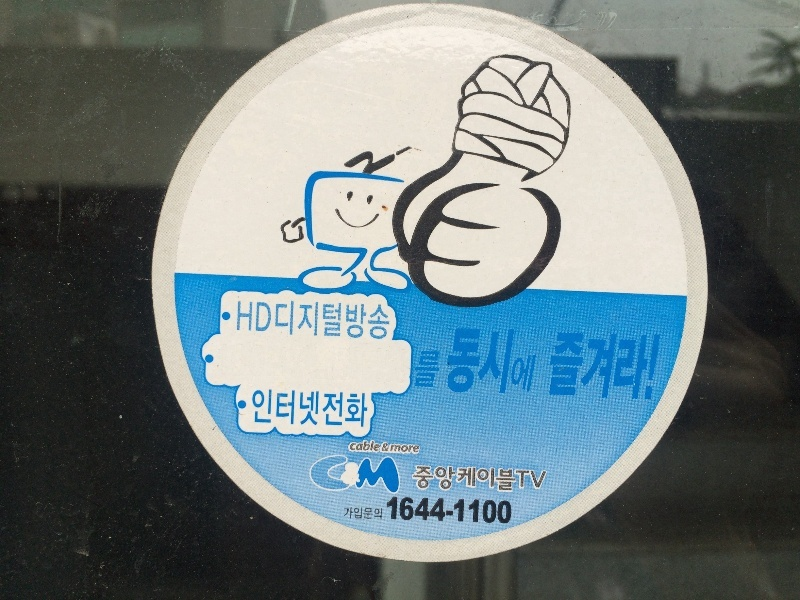text: (465, 327, 480, 399), (481, 327, 496, 399), (497, 327, 512, 399), (561, 332, 576, 403), (577, 332, 592, 403), (593, 332, 608, 403), (609, 332, 624, 403), (625, 332, 640, 403), (641, 332, 656, 403), (455, 327, 464, 399), (321, 454, 336, 495), (337, 454, 352, 495), (353, 454, 368, 495), (369, 454, 384, 495), (385, 454, 400, 495), (289, 300, 304, 341), (305, 300, 320, 341), (321, 300, 336, 341), (337, 300, 352, 341), (353, 300, 368, 341), (369, 300, 384, 341), (257, 389, 272, 429), (273, 389, 288, 429), (289, 389, 304, 429), (305, 389, 320, 429), (321, 389, 336, 429), (337, 389, 352, 429), (353, 389, 368, 429), (276, 300, 288, 341), (241, 301, 256, 332), (257, 301, 272, 332), (517, 352, 528, 394), (420, 350, 432, 388), (401, 497, 416, 525), (417, 497, 432, 525), (433, 497, 448, 525), (449, 497, 464, 525), (465, 497, 480, 525), (481, 497, 496, 525), (497, 497, 512, 525), (417, 465, 432, 493), (433, 465, 448, 493), (449, 465, 464, 493), (465, 465, 480, 493), (481, 465, 496, 493), (497, 465, 512, 493), (310, 454, 320, 495), (433, 350, 443, 388), (529, 352, 538, 394), (657, 332, 662, 403), (529, 468, 544, 491), (388, 497, 400, 525), (515, 468, 528, 491), (385, 300, 391, 341), (557, 332, 560, 403), (353, 508, 368, 521), (369, 508, 383, 521), (353, 440, 368, 451), (252, 389, 256, 429), (513, 327, 515, 399), (401, 444, 416, 453), (369, 440, 381, 451), (344, 508, 352, 521), (513, 465, 516, 493), (391, 444, 400, 453), (238, 301, 240, 332), (414, 465, 416, 493), (385, 442, 390, 453), (545, 468, 547, 491), (401, 454, 402, 495), (417, 444, 420, 453)
